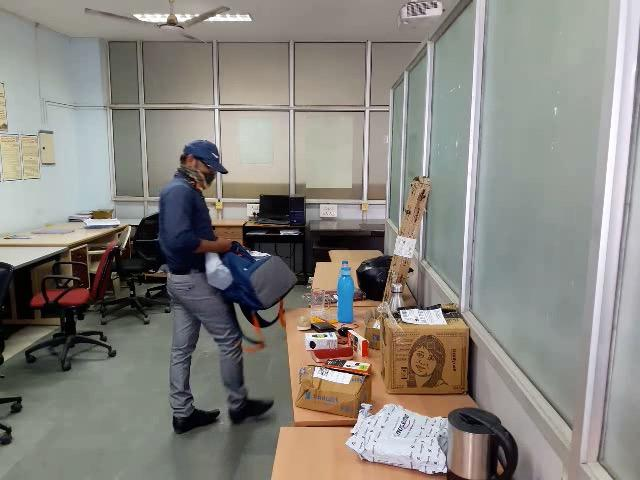shoplifting: (128, 219, 341, 363)
